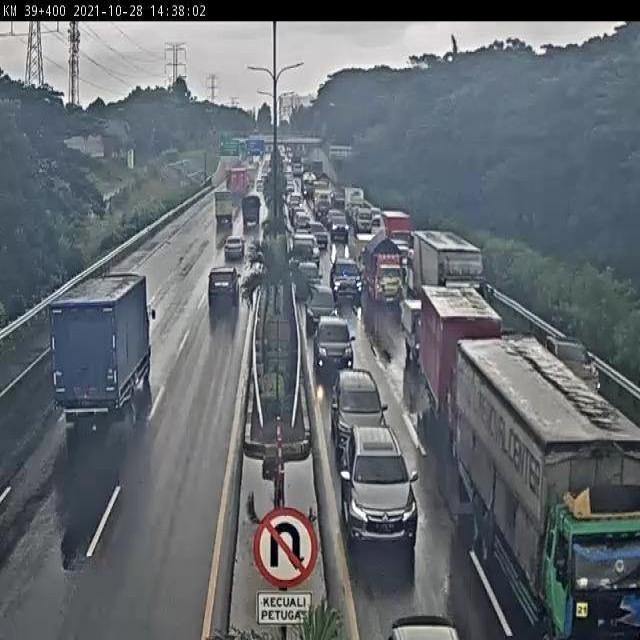big truck: (489, 376, 640, 640), (50, 276, 149, 435), (419, 282, 505, 422), (418, 230, 505, 326), (365, 240, 408, 303)
car: (336, 424, 419, 547), (330, 356, 389, 445), (530, 318, 594, 370), (314, 313, 356, 383), (325, 255, 370, 305), (304, 280, 338, 335), (201, 273, 239, 319), (296, 255, 331, 288), (291, 232, 319, 265), (222, 239, 243, 276)
small truck: (399, 295, 434, 365)
